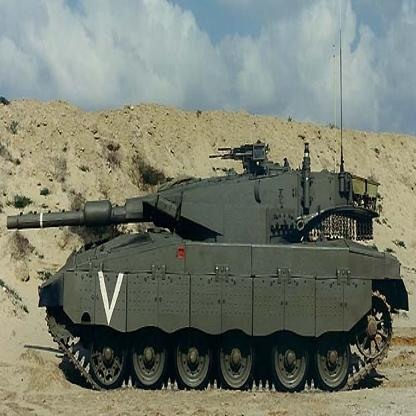Tank: (6, 140, 412, 393)
